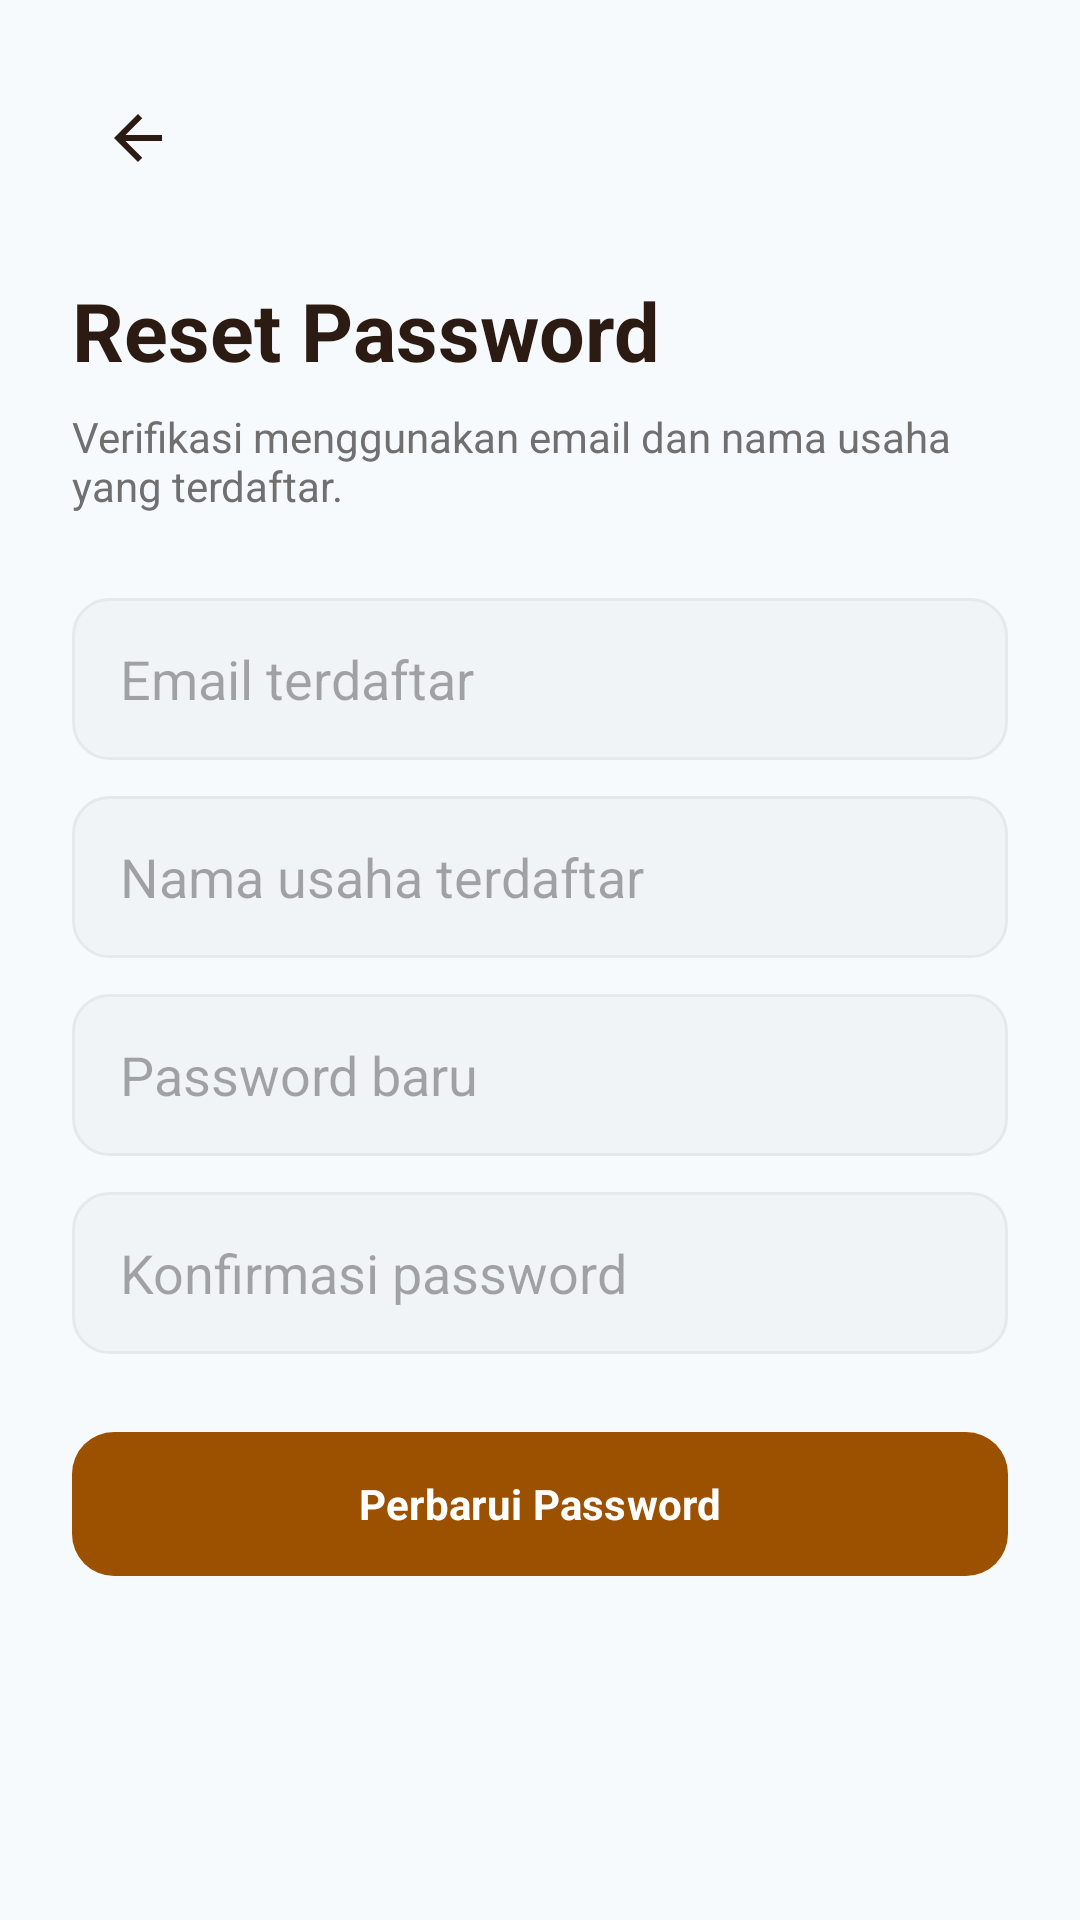

Icons on this 1080px x 1920px Android screen, each with the point to tap as (x=x, y=y):
Kembali: (x=138, y=138)
